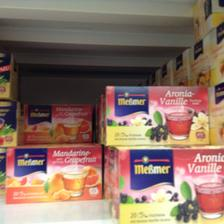Tee: (107, 144, 223, 220), (104, 84, 208, 144), (5, 144, 103, 201), (20, 101, 92, 143)
